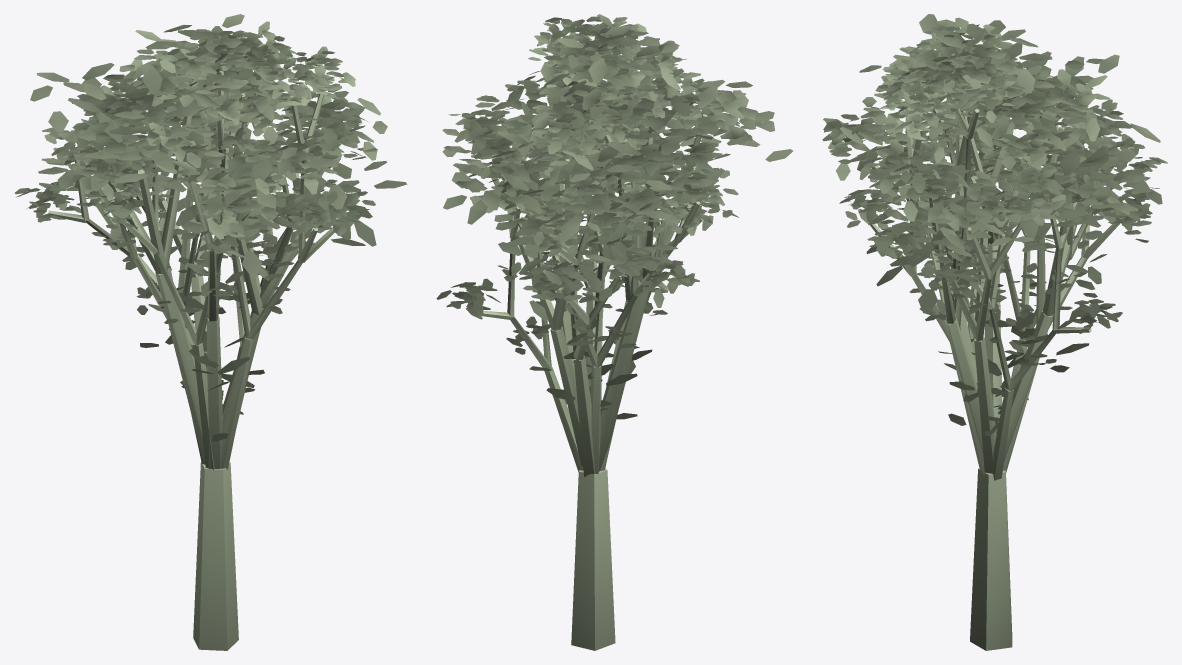
Rendered from tree_cottonwood.glb.
3 renders of one model, left to right at view 1: azimuth 30°, elevation 25°; view 2: azimuth 150°, elevation 25°; view 3: azimuth 270°, elevation 25°, orthographic. The views are drawn at different scales.
Parts seen in each view (by area): view 1: tier0_foliage, tier1_foliage, tier2_foliage, tier0_bark, tier2_bark, tier1_bark; view 2: tier0_foliage, tier1_foliage, tier2_foliage, tier0_bark, tier2_bark, tier1_bark; view 3: tier1_foliage, tier0_foliage, tier2_foliage, tier0_bark, tier2_bark, tier1_bark.
Part boxes in pixels (box(x1,y1,x2,y2)): tier0_foliage: box(30, 14, 407, 390); tier1_foliage: box(38, 30, 387, 441); tier2_foliage: box(15, 21, 375, 323); tier0_bark: box(91, 115, 307, 650); tier2_bark: box(48, 69, 334, 470); tier1_bark: box(90, 92, 339, 468); tier0_foliage: box(443, 25, 792, 400); tier1_foliage: box(442, 36, 756, 419); tier2_foliage: box(436, 14, 738, 354); tier0_bark: box(509, 124, 707, 650); tier2_bark: box(481, 62, 702, 474); tier1_bark: box(491, 105, 707, 476); tier1_foliage: box(822, 17, 1162, 436); tier0_foliage: box(839, 14, 1160, 402); tier2_foliage: box(844, 26, 1167, 414); tier0_bark: box(927, 124, 1077, 650); tier2_bark: box(870, 87, 1121, 480); tier1_bark: box(861, 109, 1119, 473).
Bounding box in the file's own units: 0.5372 × 1 × 0.5209.
